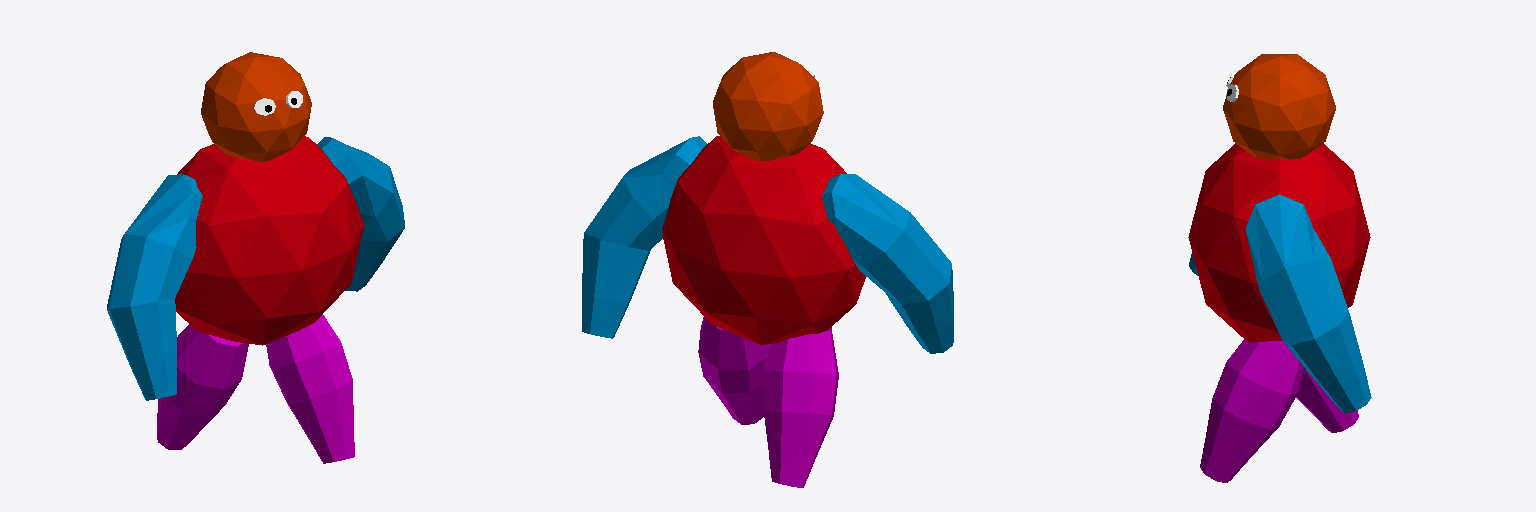
The model's file is bigboi_rigged_000007.obj.
3 renders of one model, left to right at view 1: azimuth 30°, elevation 25°; view 2: azimuth 150°, elevation 25°; view 3: azimuth 270°, elevation 25°, orthographic.
Visible parts, largest first — view 1: Cube; view 2: Cube; view 3: Cube.
Part boxes in pixels (bbox=[...]): Cube: bbox=[107, 52, 404, 463]; Cube: bbox=[582, 52, 953, 487]; Cube: bbox=[1188, 54, 1371, 482].
Bounding box in the file's own units: 6.66 × 7.73 × 3.22.